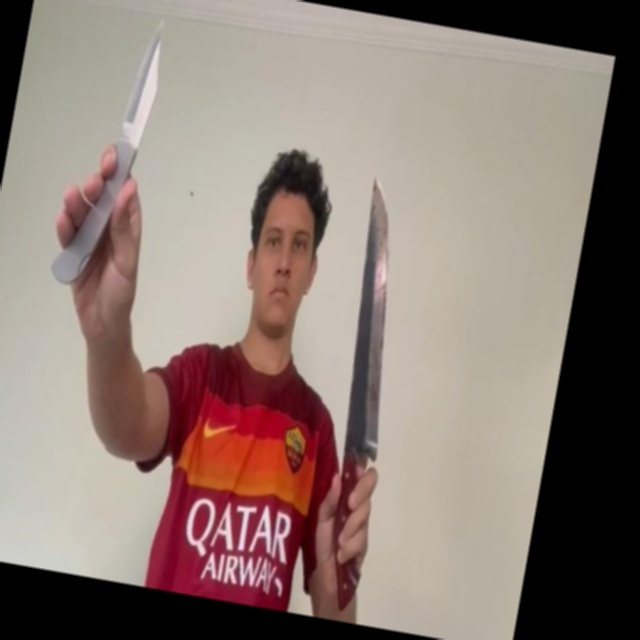Sharp-Object: (326, 177, 426, 454), (120, 18, 170, 140)
